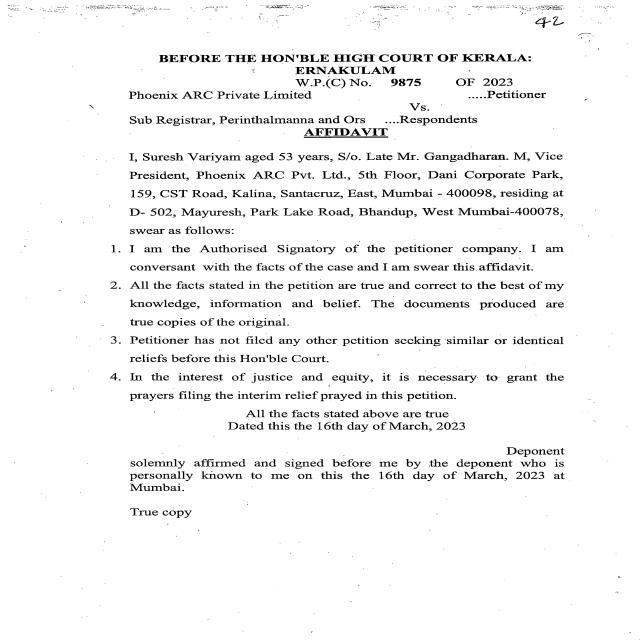page-number: (425, 0, 640, 50)
